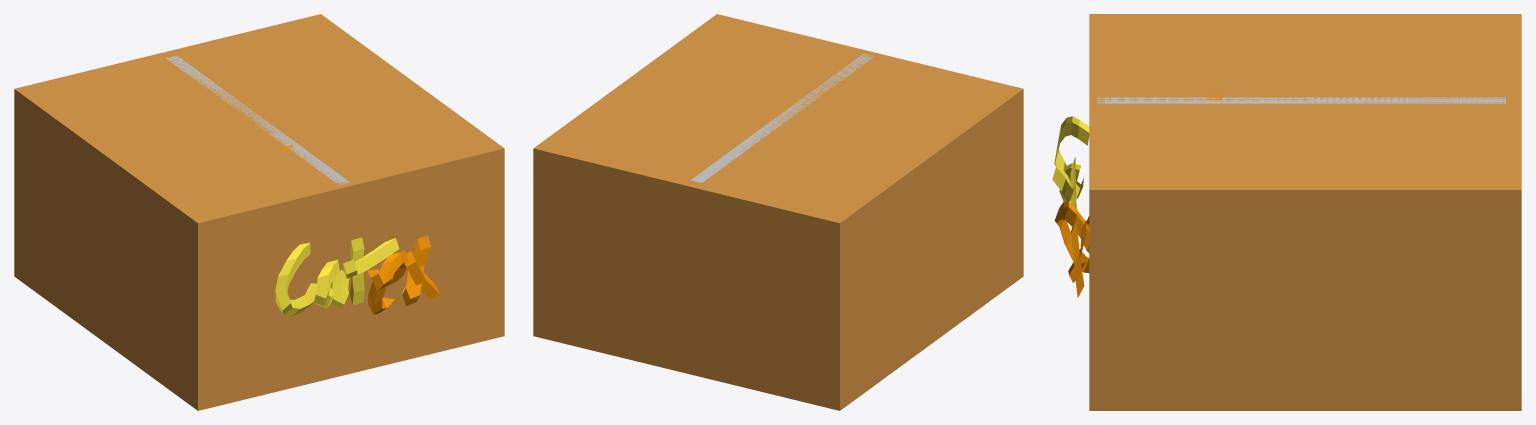
The picture shows the model from 3 angles, left to right: view 1: azimuth 30°, elevation 25°; view 2: azimuth 150°, elevation 25°; view 3: azimuth 270°, elevation 25°; orthographic projection. The views are drawn at different scales.
Parts seen in each view (by area): view 1: mesh_545748311, mesh_1027020084, mesh_1905559705, mesh_35993692, mesh_741416071, mesh_993072852, mesh_626309551, group_375736567, group_375167306, group_1002656165, group_309266933, group_1613983271 (+2 smaller); view 2: mesh_993072852, mesh_545748311, mesh_1905559705, mesh_35993692, mesh_1027020084, mesh_626309551, mesh_741416071; view 3: mesh_741416071, mesh_545748311, mesh_35993692, mesh_993072852, mesh_1905559705, mesh_626309551, mesh_1027020084, group_375167306, group_375736567, group_736977309, group_309266933.
Boxes of the visible parts, bbox=[...] form: mesh_545748311: bbox=[21, 20, 504, 234]; mesh_1027020084: bbox=[191, 149, 492, 398]; mesh_1905559705: bbox=[14, 89, 209, 398]; mesh_35993692: bbox=[14, 264, 504, 410]; mesh_741416071: bbox=[317, 19, 504, 326]; mesh_993072852: bbox=[14, 14, 327, 268]; mesh_626309551: bbox=[166, 55, 350, 185]; group_375736567: bbox=[275, 242, 316, 316]; group_375167306: bbox=[367, 250, 407, 314]; group_1002656165: bbox=[314, 259, 349, 308]; group_309266933: bbox=[343, 238, 399, 278]; group_1613983271: bbox=[402, 235, 430, 306]; mesh_993072852: bbox=[533, 143, 846, 398]; mesh_545748311: bbox=[552, 14, 1023, 232]; mesh_1905559705: bbox=[828, 86, 1023, 398]; mesh_35993692: bbox=[533, 264, 1023, 410]; mesh_1027020084: bbox=[717, 15, 1023, 268]; mesh_626309551: bbox=[691, 53, 874, 182]; mesh_741416071: bbox=[540, 14, 726, 146]; mesh_741416071: bbox=[1089, 183, 1513, 396]; mesh_545748311: bbox=[1089, 14, 1521, 204]; mesh_35993692: bbox=[1089, 396, 1521, 410]; mesh_993072852: bbox=[1506, 14, 1521, 396]; mesh_1905559705: bbox=[1089, 14, 1505, 20]; mesh_626309551: bbox=[1097, 97, 1505, 103]; mesh_1027020084: bbox=[1089, 14, 1104, 186]; group_375167306: bbox=[1054, 201, 1089, 272]; group_375736567: bbox=[1054, 116, 1089, 198]; group_736977309: bbox=[1071, 220, 1084, 297]; group_309266933: bbox=[1052, 164, 1074, 202].
Size of the model in its own units: 53 by 31 by 59.69.
